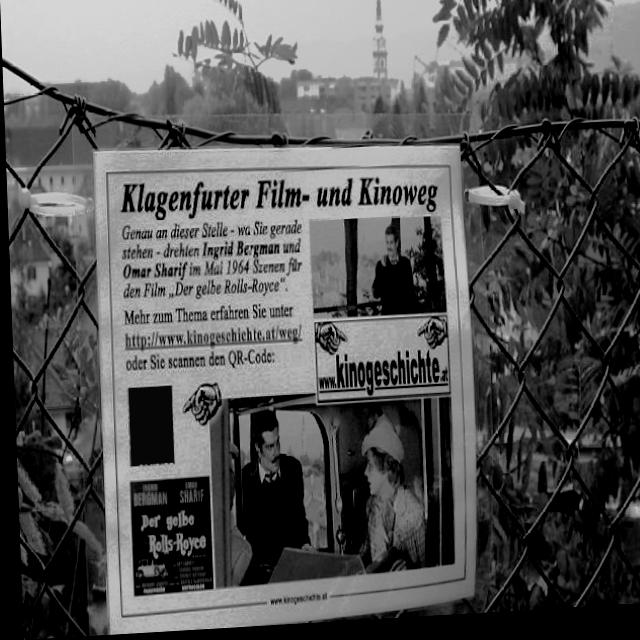qr_code: (124, 388, 171, 467)
